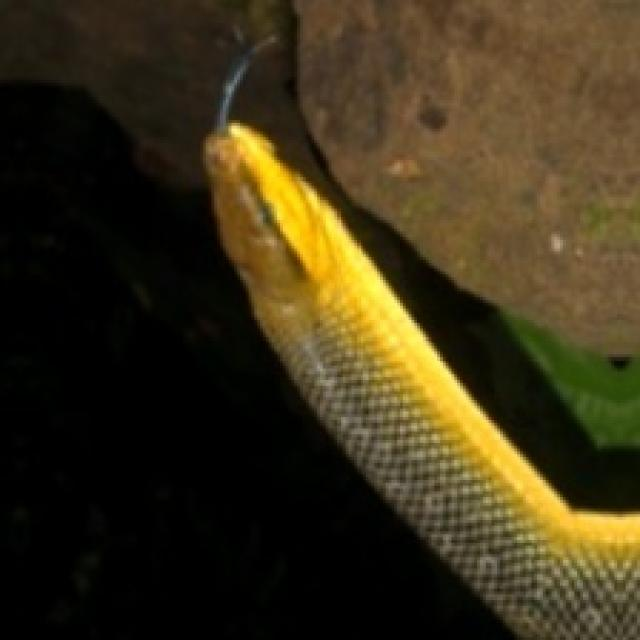red-tailed green ratsnake: (206, 60, 637, 637)
